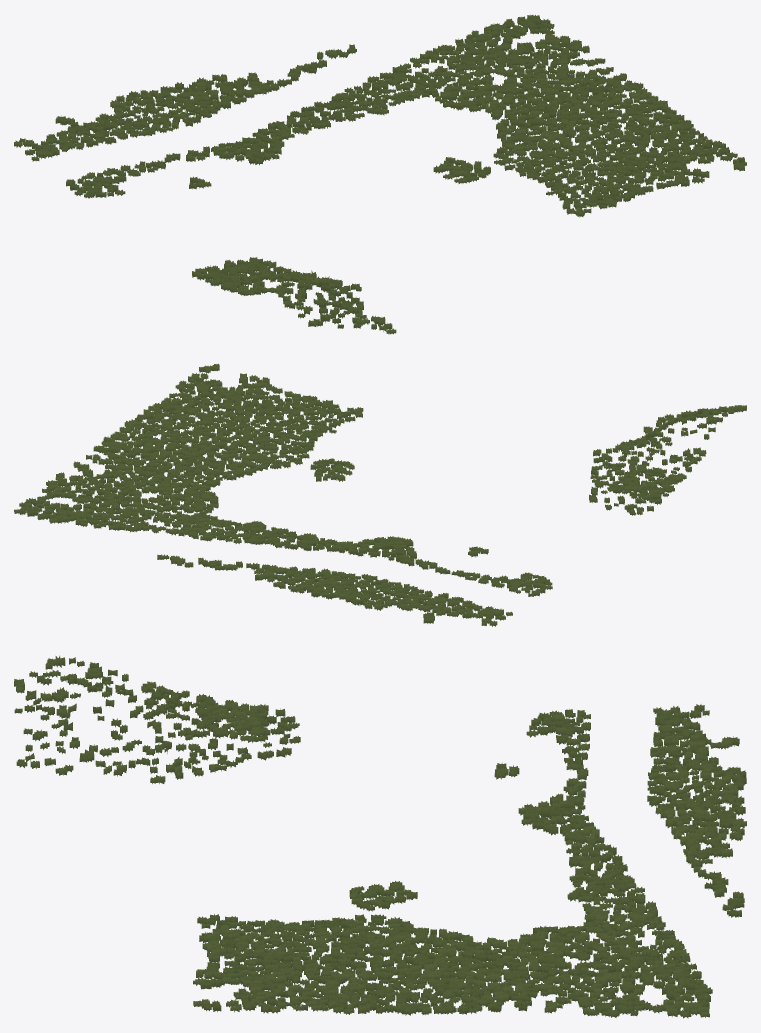
Rendered from TRB8-GRASS-CHUNK-6-5.glb.
3 renders of one model, top to bottom at view 1: azimuth 30°, elevation 25°; view 2: azimuth 150°, elevation 25°; view 3: azimuth 270°, elevation 25°, orthographic. The views are drawn at different scales.
Visible parts, largest first — view 1: TRB8-GRASS-CHUNK-6-5; view 2: TRB8-GRASS-CHUNK-6-5; view 3: TRB8-GRASS-CHUNK-6-5.
Boxes of the visible parts, <box> form: TRB8-GRASS-CHUNK-6-5: <box>14,14,746,334</box>; TRB8-GRASS-CHUNK-6-5: <box>14,363,746,626</box>; TRB8-GRASS-CHUNK-6-5: <box>14,655,746,1018</box>.
Bounding box in the file's own units: 40.52 × 3.85 × 40.51.
Materials: 1 (1 with a texture image).
